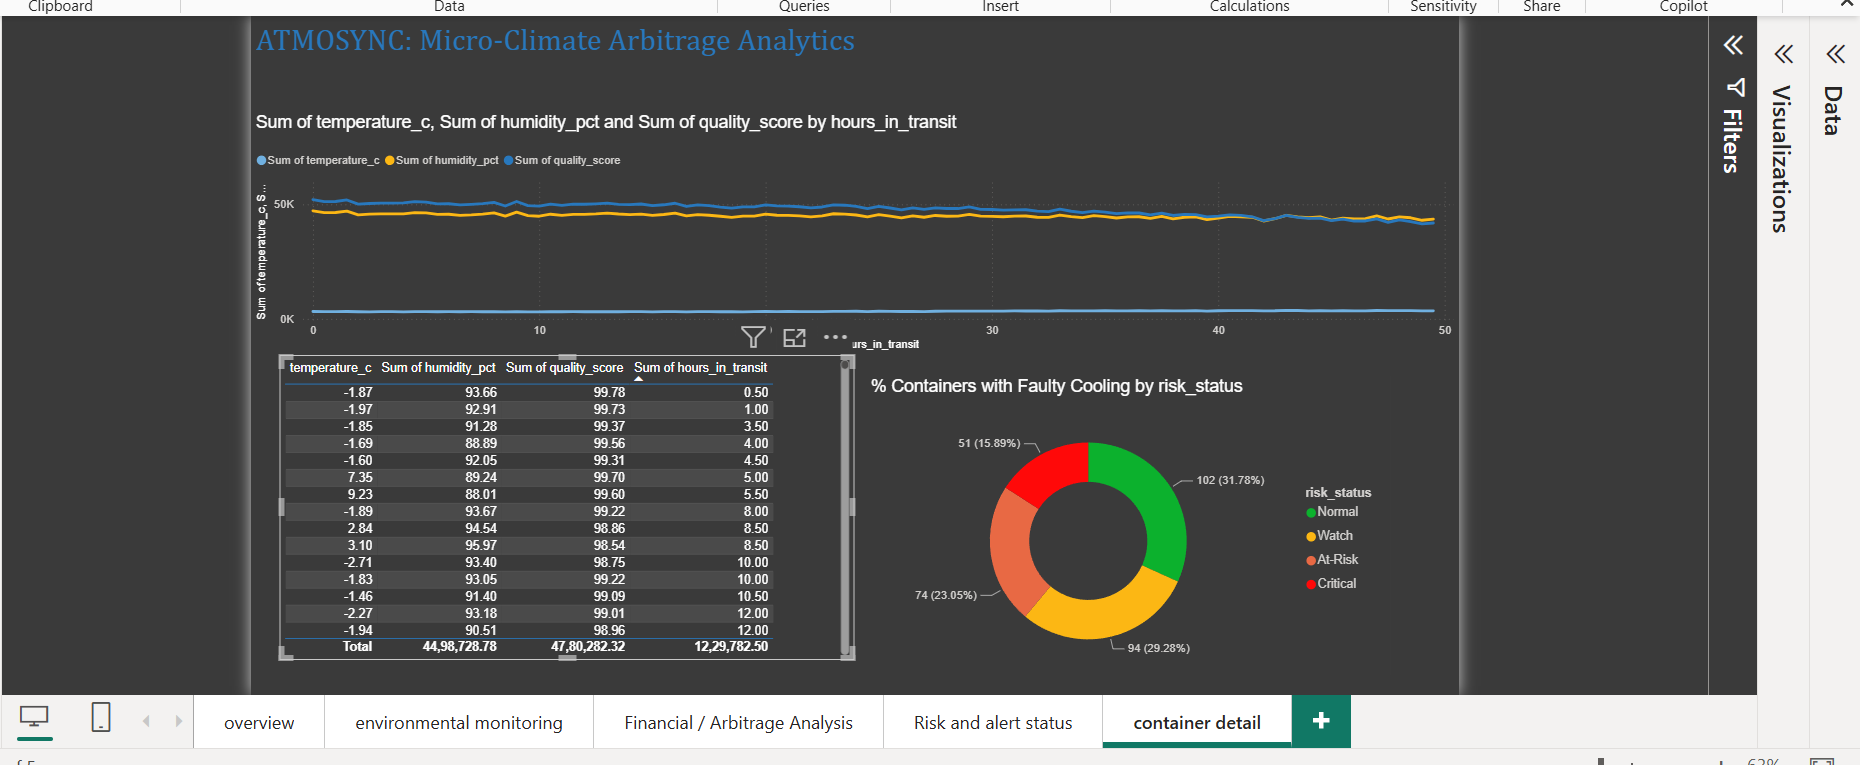

This screenshot's page, from the dashboard's own definition file:
{"tool":"powerbi","page":{"name":"container detail","canvas":[1280,720],"ordinal":4},"visuals":[{"type":"lineChart","fields":{"Category":["cleaned_dataset.hours_in_transit"],"Y":["Sum(cleaned_dataset.temperature_c)","Sum(cleaned_dataset.humidity_pct)","Sum(cleaned_dataset.quality_score)"]},"box":[0,101.8,1280.4,257.7],"z":0},{"type":"textbox","box":[0,0,1099.1,55.7],"z":1000},{"type":"tableEx","fields":{"Values":["cleaned_dataset.temperature_c","Sum(cleaned_dataset.humidity_pct)","Sum(cleaned_dataset.quality_score)","Sum(cleaned_dataset.hours_in_transit)"]},"box":[30.2,359.5,609.2,322.9],"z":2000},{"type":"donutChart","title":"% Containers with Faulty Cooling by risk_status","fields":{"Category":["cleaned_dataset.risk_status"],"Y":["Count(cleaned_dataset.container_id)"]},"box":[652.2,381.7,556.7,318.1],"z":3000}]}

Visuals, with their boxes on the page's 1280x720 design canvas (x1, y1, x2, y2). These are canvas units, not pixel positions in the 1860x765 screenshot, which may show the page scaled, cropped or inside an application window:
lineChart - cleaned_dataset.hours_in_transit x Sum(cleaned_dataset.temperature_c): crop(0, 102, 1280, 360)
textbox: crop(0, 0, 1099, 56)
tableEx - cleaned_dataset.temperature_c x Sum(cleaned_dataset.humidity_pct): crop(30, 360, 639, 682)
"% Containers with Faulty Cooling by risk_status" donutChart: crop(652, 382, 1209, 700)
